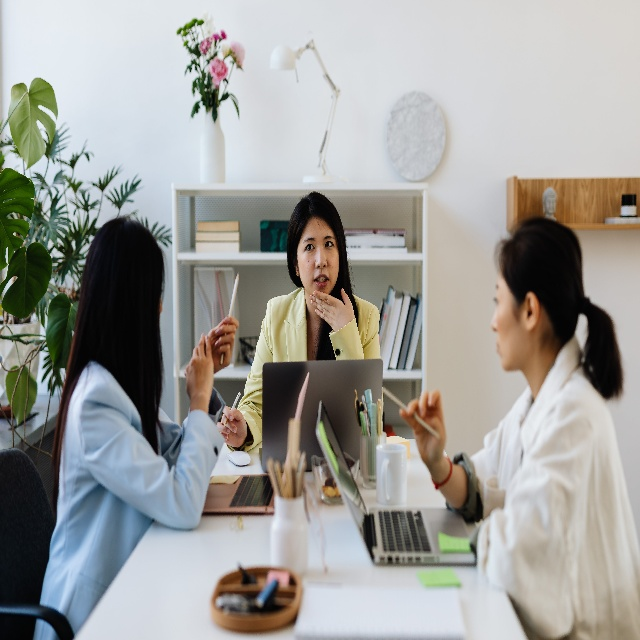Sin_guantes: (400, 388, 446, 471), (184, 330, 213, 409), (309, 287, 357, 331), (206, 314, 241, 373), (217, 404, 248, 451)
